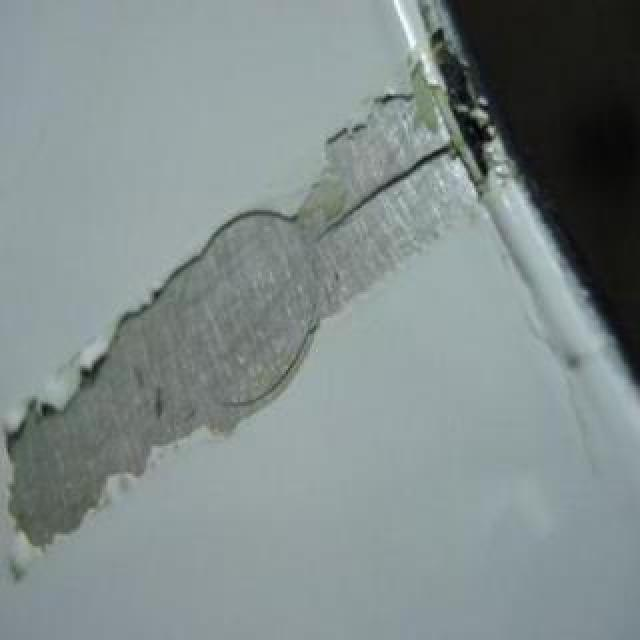crack: (305, 130, 461, 258)
